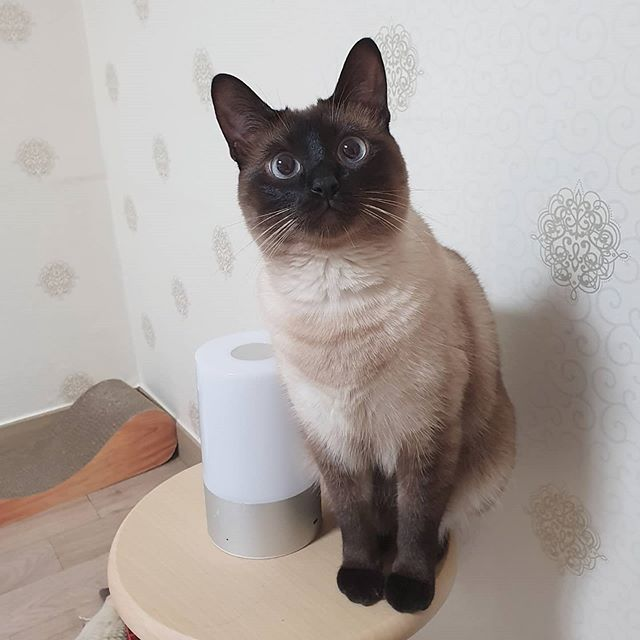cat: (207, 41, 417, 254)
